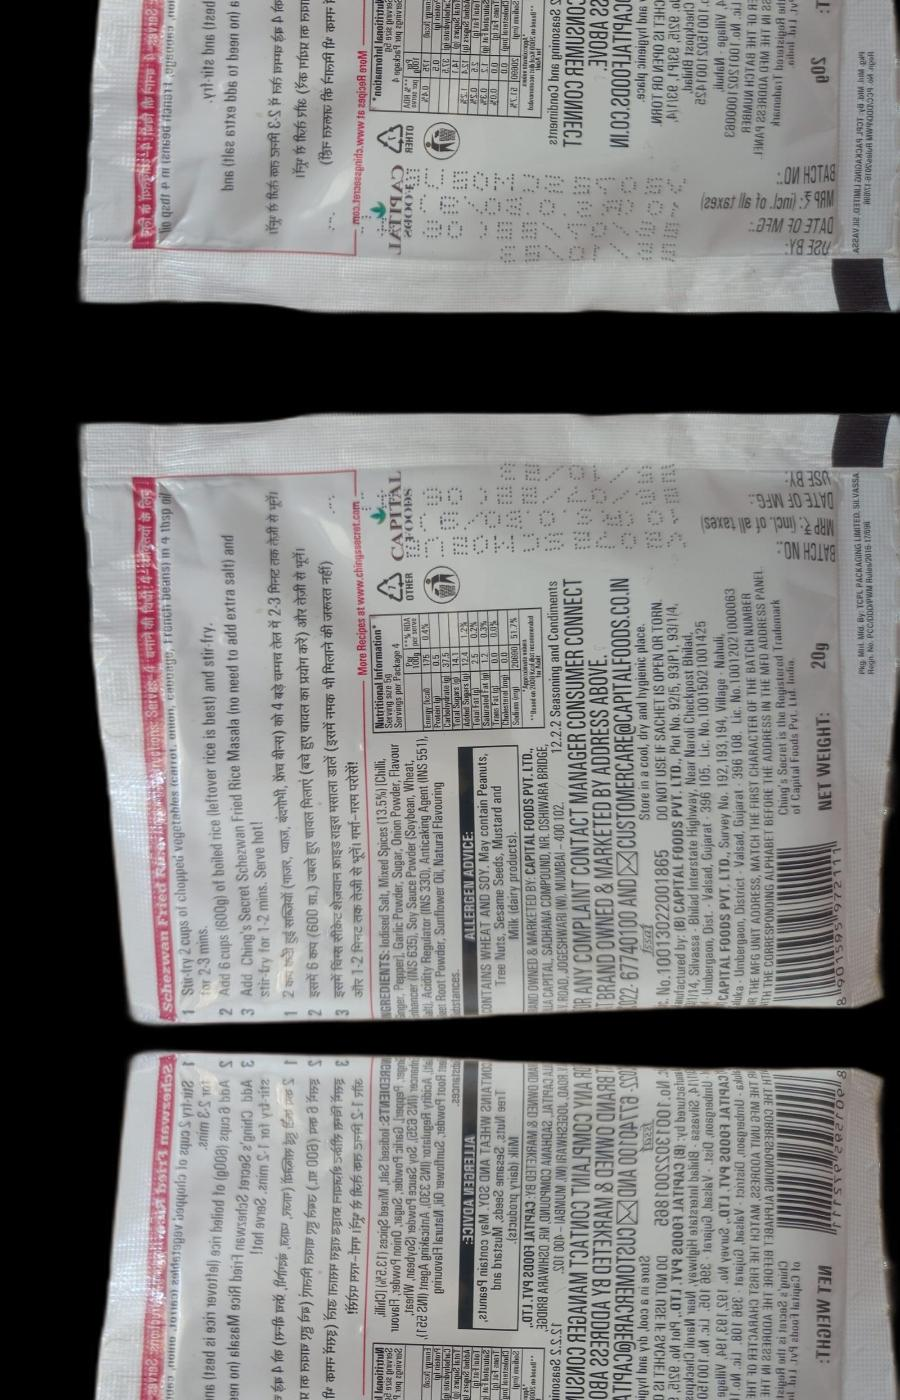Ching-s secret schezwan fried masala: (71, 412, 895, 1020), (71, 1054, 895, 1400), (71, 0, 895, 312)
